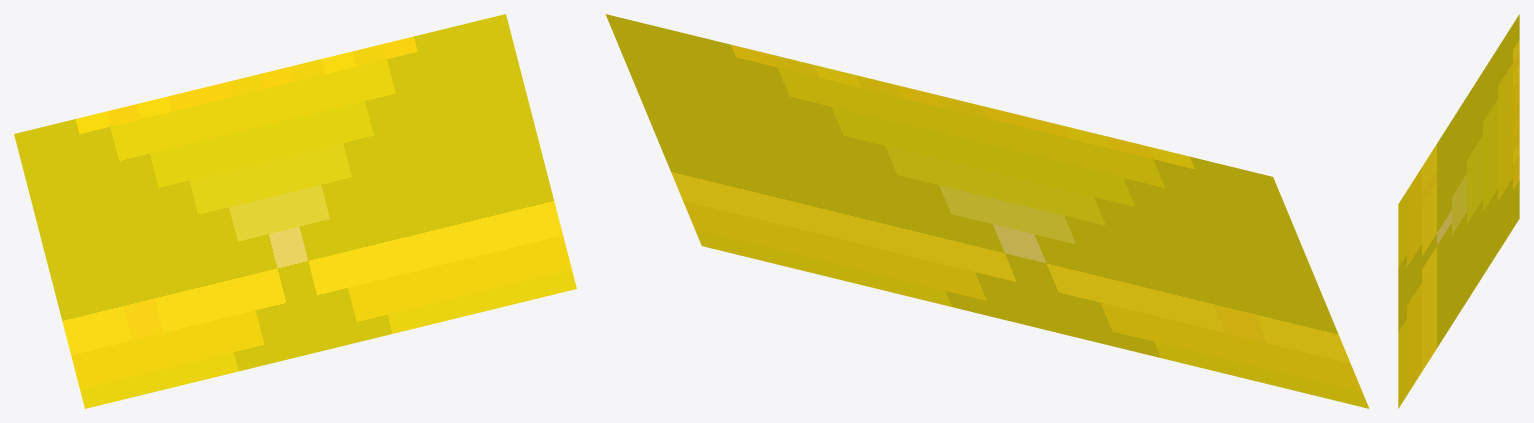
The picture shows the model from 3 angles, left to right: view 1: azimuth 30°, elevation 25°; view 2: azimuth 150°, elevation 25°; view 3: azimuth 270°, elevation 25°; orthographic projection. The views are drawn at different scales.
Size of the model in its own units: 1 by 0.4331 by 0.25.
1 material, 1 textured.
